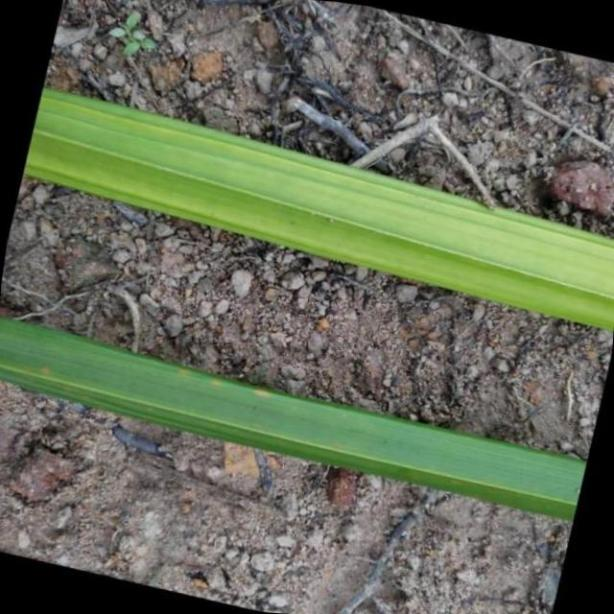nitrogen: (29, 86, 614, 332), (8, 318, 582, 523)
